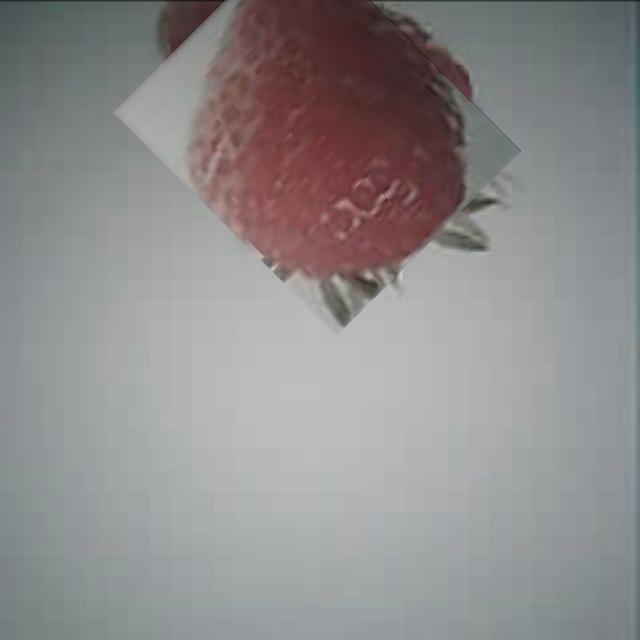strawberry: (136, 0, 498, 298)
